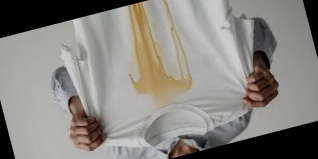coffee: (114, 0, 196, 106)
